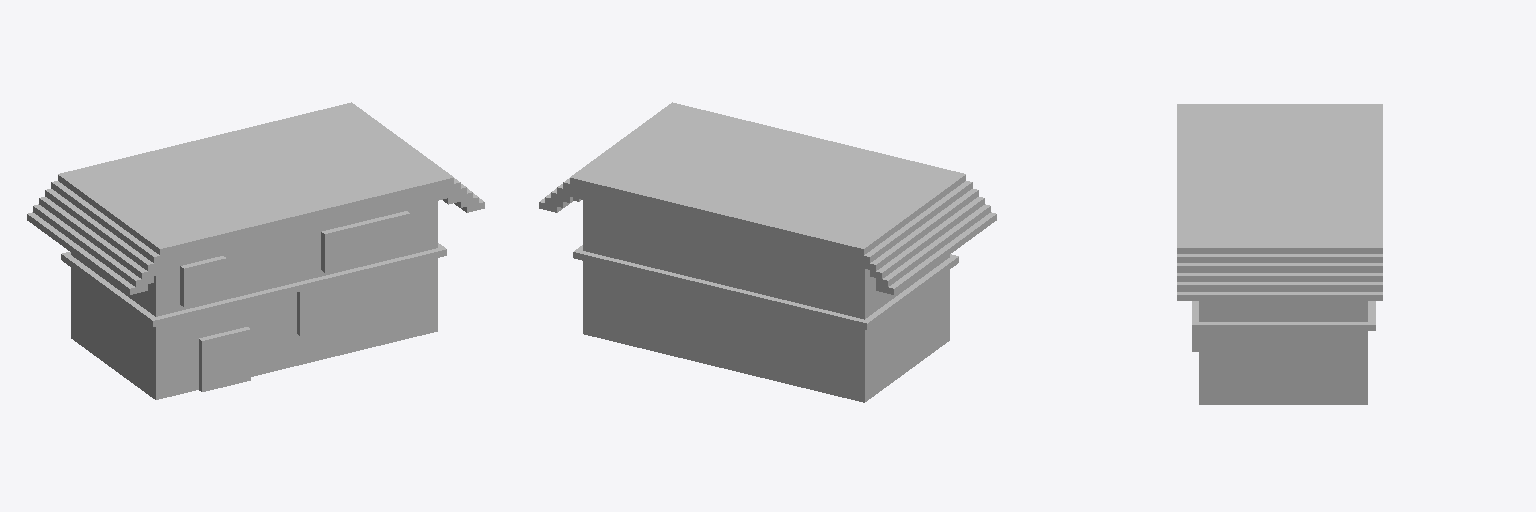
The model's file is house.obj.
The picture shows the model from 3 angles: view 1: azimuth 30°, elevation 25°; view 2: azimuth 150°, elevation 25°; view 3: azimuth 270°, elevation 25°; orthographic projection.
Visible parts, largest first — view 1: object 1; view 2: object 1; view 3: object 1.
Boxes of the visible parts, box(x1,y1,x2,y2) form: object 1: box(27, 102, 484, 399); object 1: box(539, 102, 996, 402); object 1: box(1177, 104, 1382, 404).
Bounding box in the file's own units: 5.8 × 2.5 × 2.9.